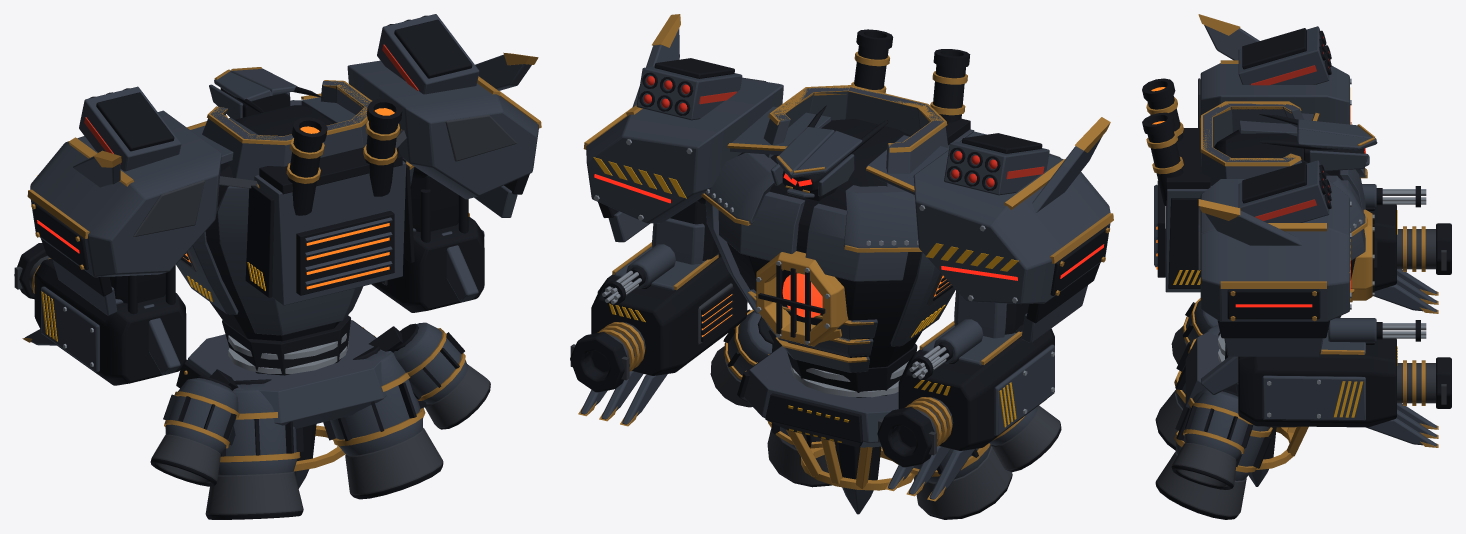
Rendered from boss.glb.
The picture shows the model from 3 angles, left to right: view 1: azimuth 30°, elevation 25°; view 2: azimuth 150°, elevation 25°; view 3: azimuth 270°, elevation 25°; orthographic projection. The views are drawn at different scales.
Visible parts, largest first — view 1: Boss_Torso, Boss_Arm_L, Boss_Arm_R, Boss_Forearm_L, Boss_Thruster_2, Boss_Thruster_1, Boss_Thruster_3, Boss_Forearm_R, Boss_Thruster_4, Boss_Head; view 2: Boss_Torso, Boss_Arm_L, Boss_Arm_R, Boss_Forearm_L, Boss_Forearm_R, Boss_Head, Boss_Thruster_1, Boss_Thruster_4, Boss_Thruster_3, Boss_Thruster_2, Boss_Core; view 3: Boss_Arm_R, Boss_Torso, Boss_Forearm_R, Boss_Arm_L, Boss_Forearm_L, Boss_Thruster_4, Boss_Thruster_2, Boss_Head, Boss_Thruster_1, Boss_Thruster_3.
Boxes of the visible parts, bbox=[...] form: Boss_Torso: bbox=[176, 80, 414, 488]; Boss_Arm_L: bbox=[27, 86, 221, 315]; Boss_Arm_R: bbox=[347, 14, 541, 242]; Boss_Forearm_L: bbox=[14, 243, 186, 385]; Boss_Thruster_2: bbox=[323, 346, 443, 499]; Boss_Thruster_1: bbox=[205, 379, 303, 519]; Boss_Thruster_3: bbox=[150, 376, 239, 486]; Boss_Forearm_R: bbox=[371, 213, 484, 312]; Boss_Thruster_4: bbox=[393, 322, 490, 429]; Boss_Head: bbox=[209, 67, 322, 119]; Boss_Torso: bbox=[701, 29, 974, 514]; Boss_Arm_L: bbox=[913, 117, 1113, 342]; Boss_Arm_R: bbox=[583, 14, 783, 265]; Boss_Forearm_L: bbox=[877, 319, 1054, 501]; Boss_Forearm_R: bbox=[570, 242, 747, 426]; Boss_Head: bbox=[770, 105, 888, 197]; Boss_Thruster_1: bbox=[910, 443, 1012, 519]; Boss_Thruster_4: bbox=[710, 309, 773, 407]; Boss_Thruster_3: bbox=[989, 405, 1061, 471]; Boss_Thruster_2: bbox=[767, 421, 834, 487]; Boss_Core: bbox=[782, 273, 822, 317]; Boss_Arm_R: bbox=[1198, 160, 1351, 356]; Boss_Torso: bbox=[1142, 78, 1377, 486]; Boss_Forearm_R: bbox=[1201, 318, 1451, 447]; Boss_Arm_L: bbox=[1198, 14, 1351, 127]; Boss_Forearm_L: bbox=[1362, 184, 1451, 313]; Boss_Thruster_4: bbox=[1171, 390, 1253, 489]; Boss_Thruster_2: bbox=[1155, 388, 1272, 519]; Boss_Head: bbox=[1259, 114, 1377, 171]; Boss_Thruster_1: bbox=[1155, 325, 1220, 450]; Boss_Thruster_3: bbox=[1171, 298, 1218, 364].
Size of the model in its own units: 7.29 by 6.35 by 4.61.
